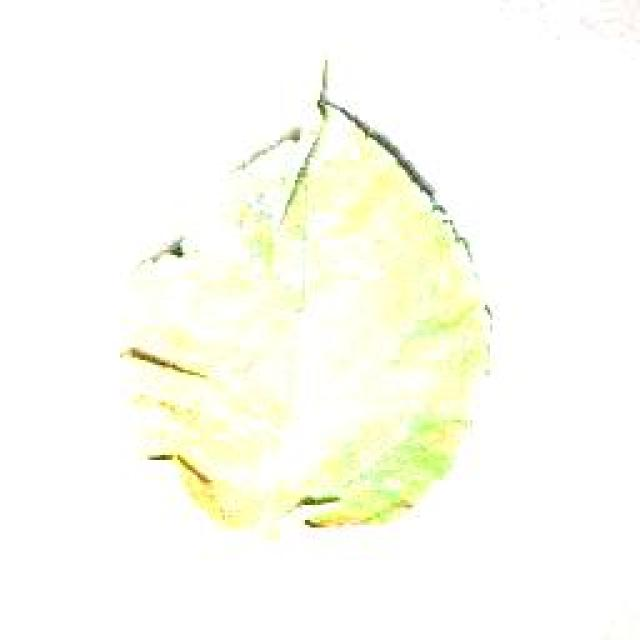apple cedar apple rust: (117, 57, 495, 535)
